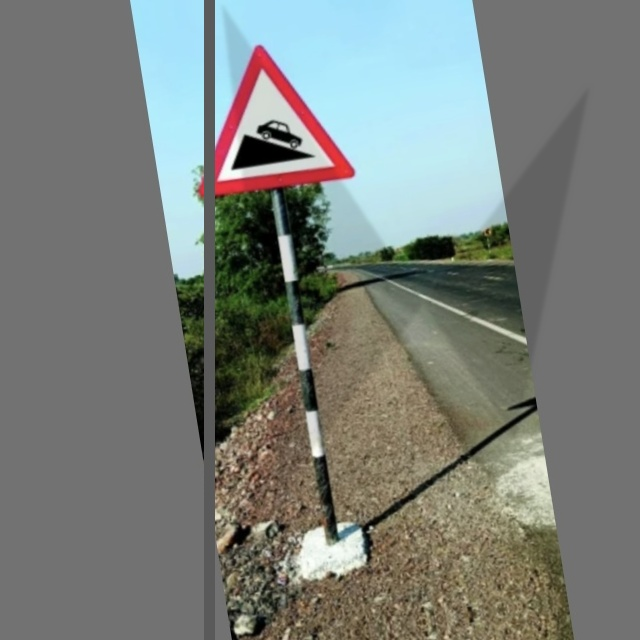Steep_Descent: (183, 36, 355, 207)
